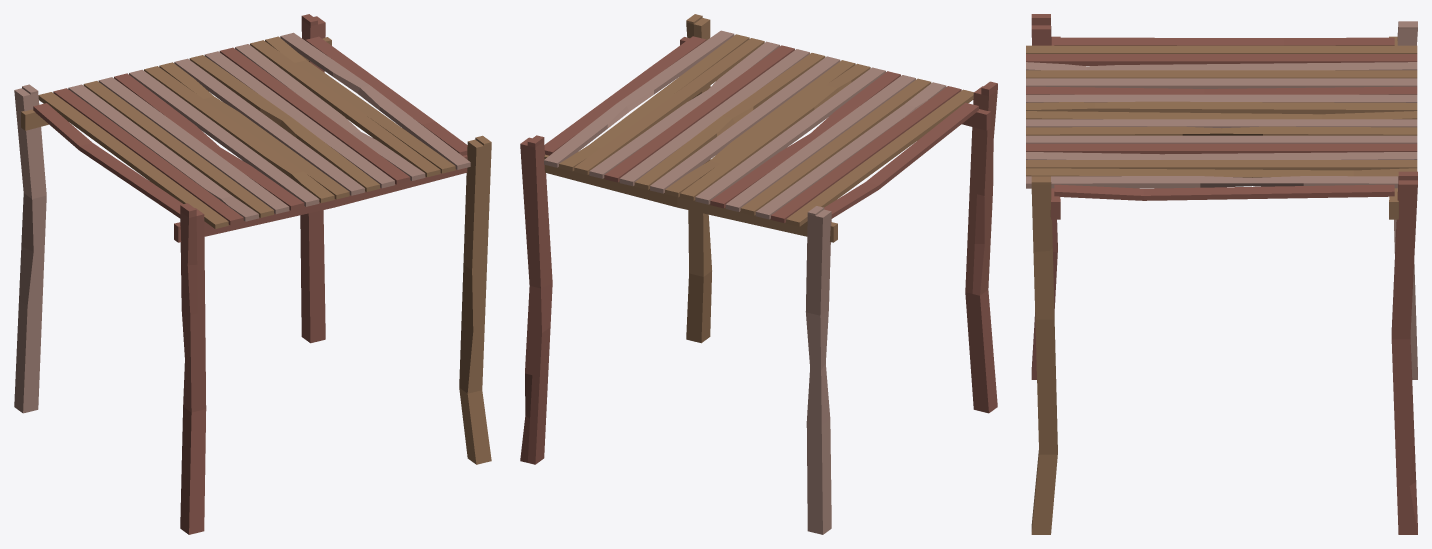
File: Platfrom.fbx
3 views of the same model, side by side, from view 1: azimuth 30°, elevation 25°; view 2: azimuth 150°, elevation 25°; view 3: azimuth 270°, elevation 25° (orthographic). The views are drawn at different scales.
Visible parts, largest first — view 1: Cube; view 2: Cube; view 3: Cube.
Boxes of the visible parts, x1,y1,x2,y2 form: Cube: (14,14,491,534); Cube: (520,14,997,534); Cube: (1026,14,1417,534).
Bounding box in the file's own units: 2026 × 2043 × 2029.
